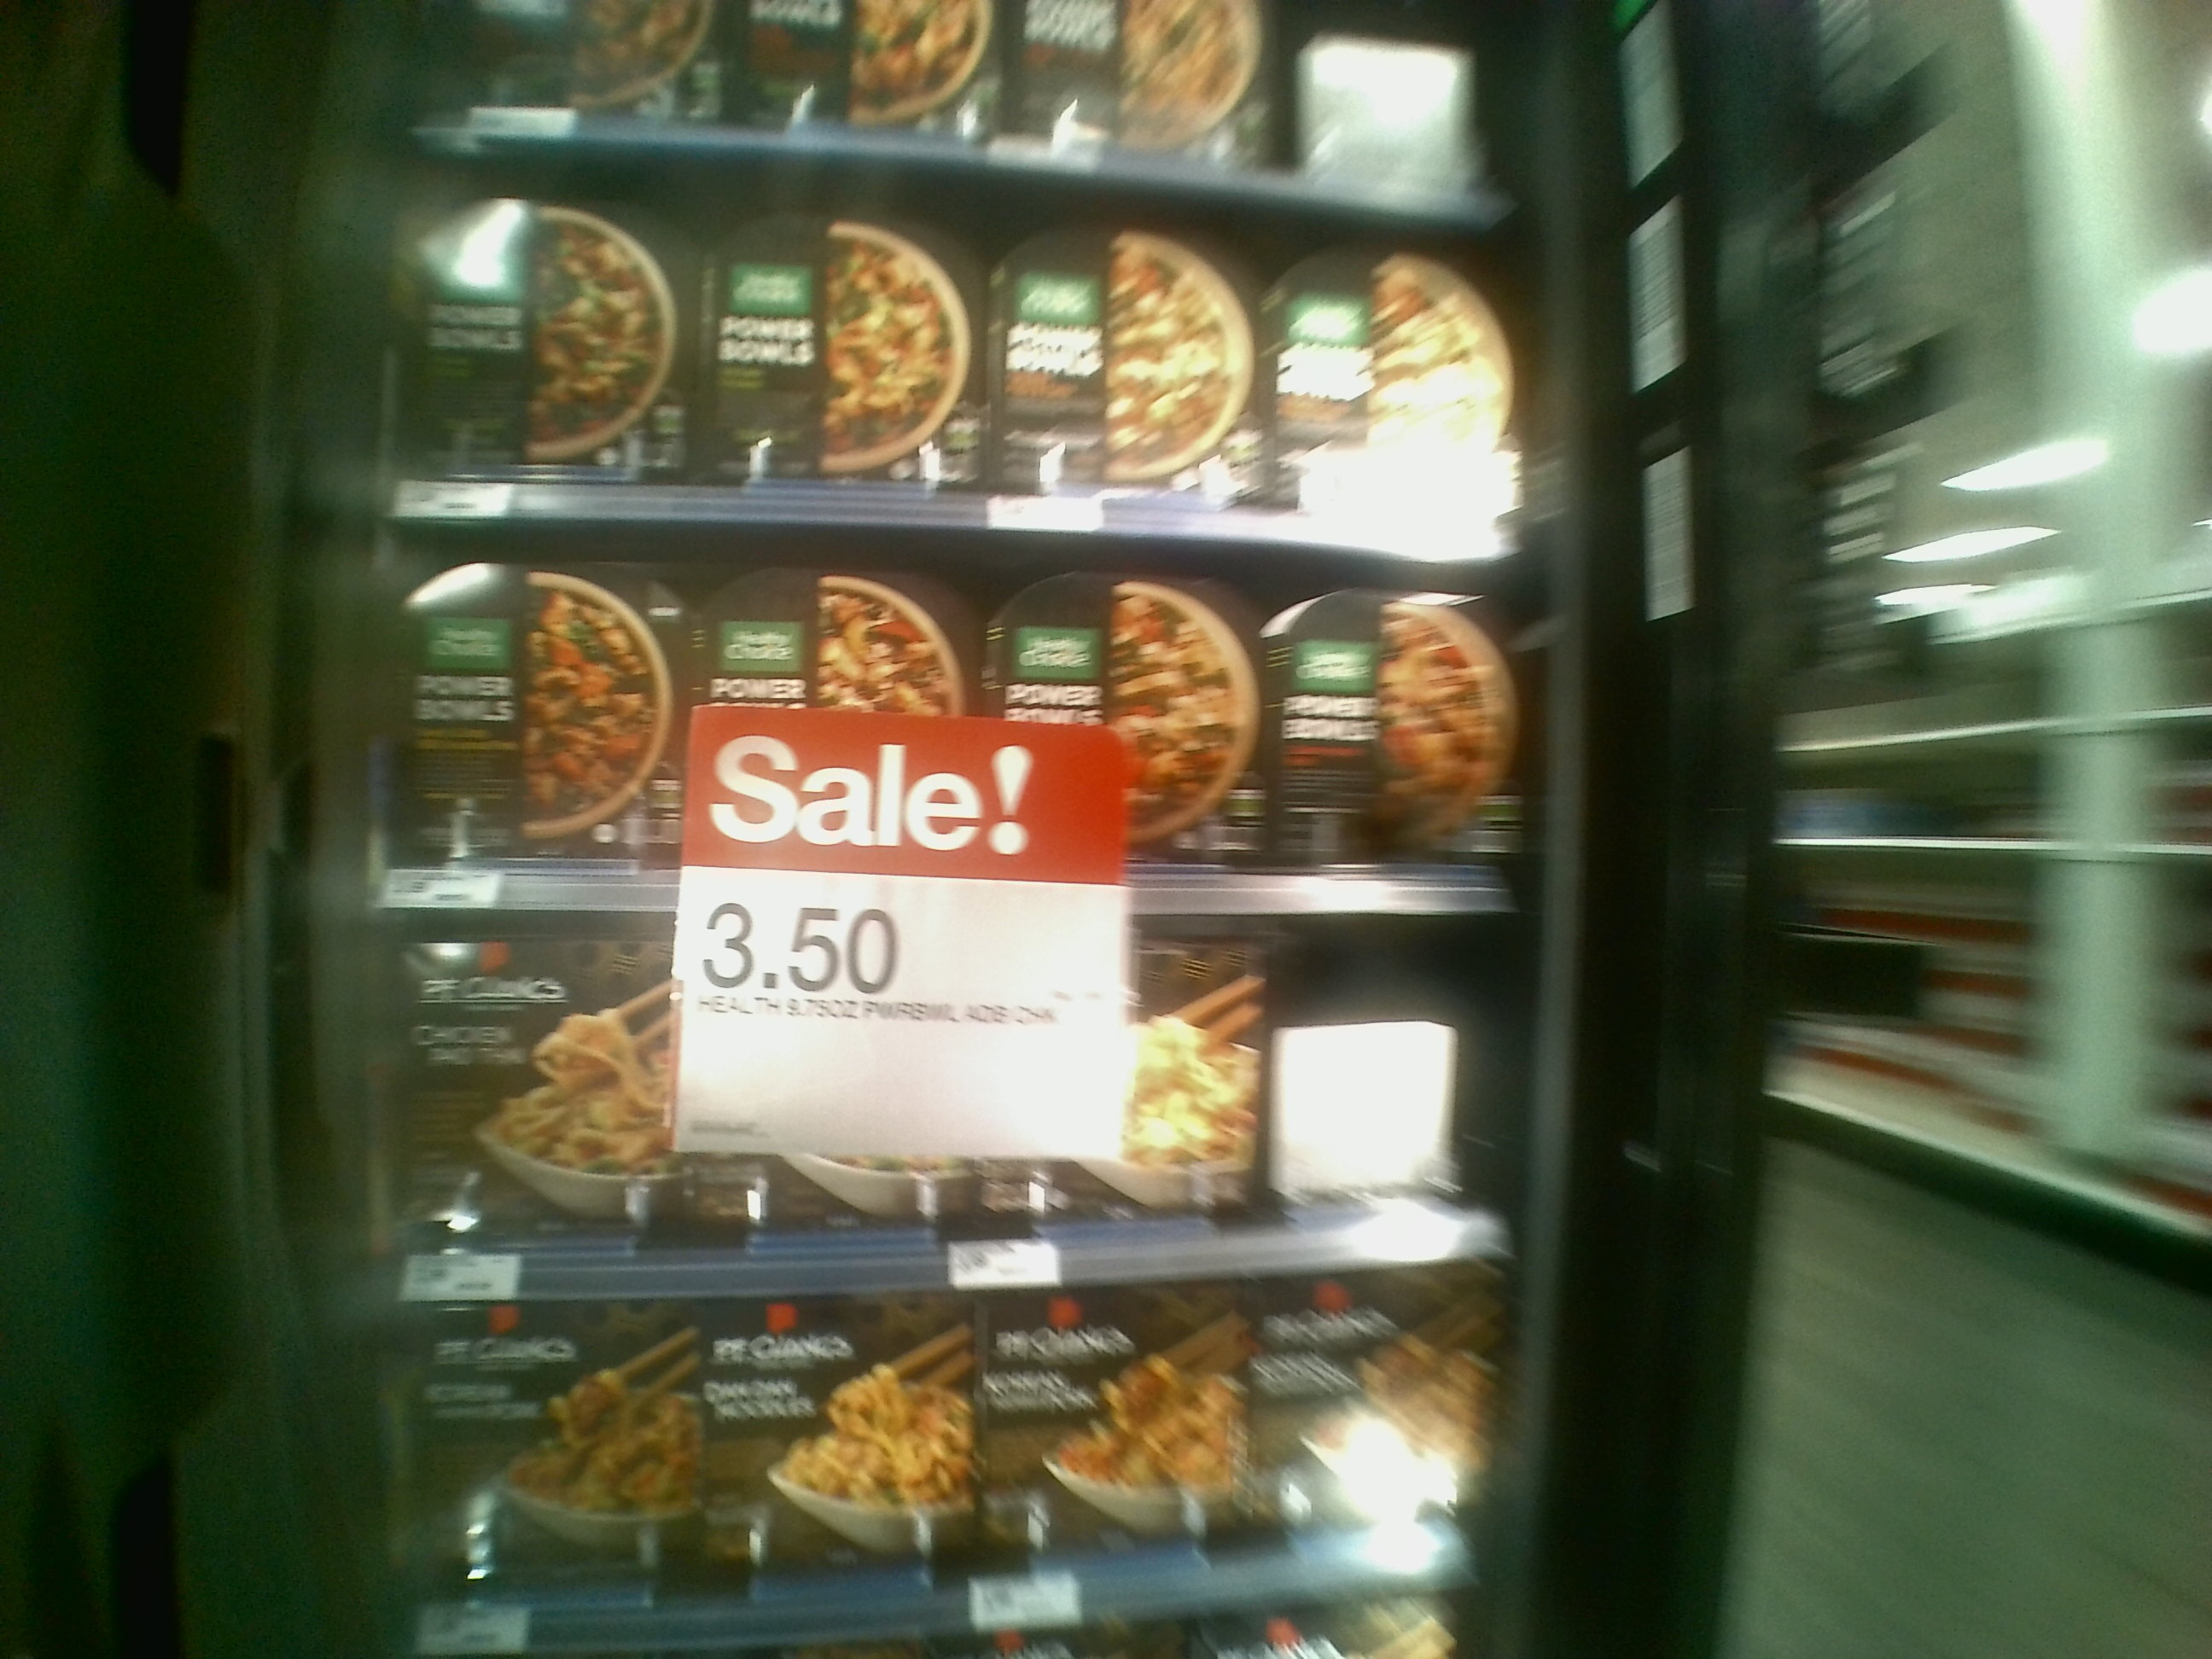shelf: (394, 131, 1543, 558), (373, 511, 1552, 913), (376, 904, 1505, 1288)
